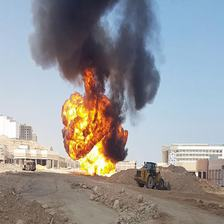fire: (55, 48, 128, 177)
